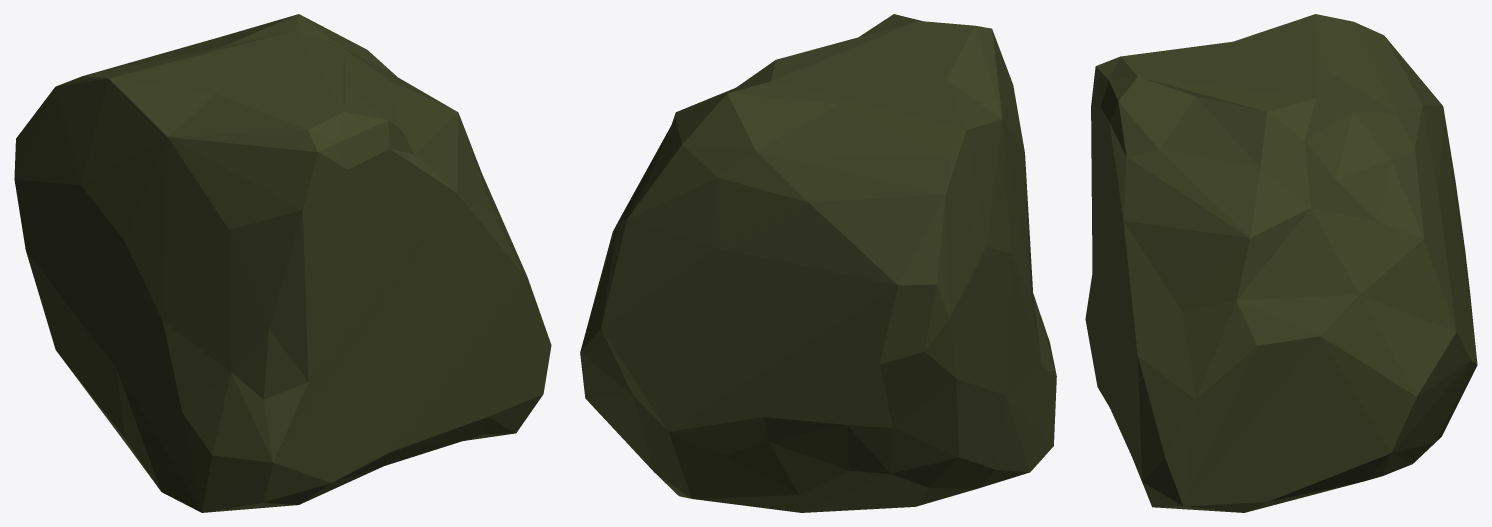
File: SM_small_rock_41.fbx
The picture shows the model from 3 angles, left to right: view 1: azimuth 30°, elevation 25°; view 2: azimuth 150°, elevation 25°; view 3: azimuth 270°, elevation 25°; orthographic projection. The views are drawn at different scales.
Parts seen in each view (by area): view 1: small_rock_41; view 2: small_rock_41; view 3: small_rock_41.
Boxes of the visible parts, x1,y1,x2,y2 form: small_rock_41: (14, 14, 551, 512); small_rock_41: (580, 14, 1056, 512); small_rock_41: (1085, 14, 1477, 512).
Bounding box in the file's own units: 17.17 × 15.22 × 15.46.
